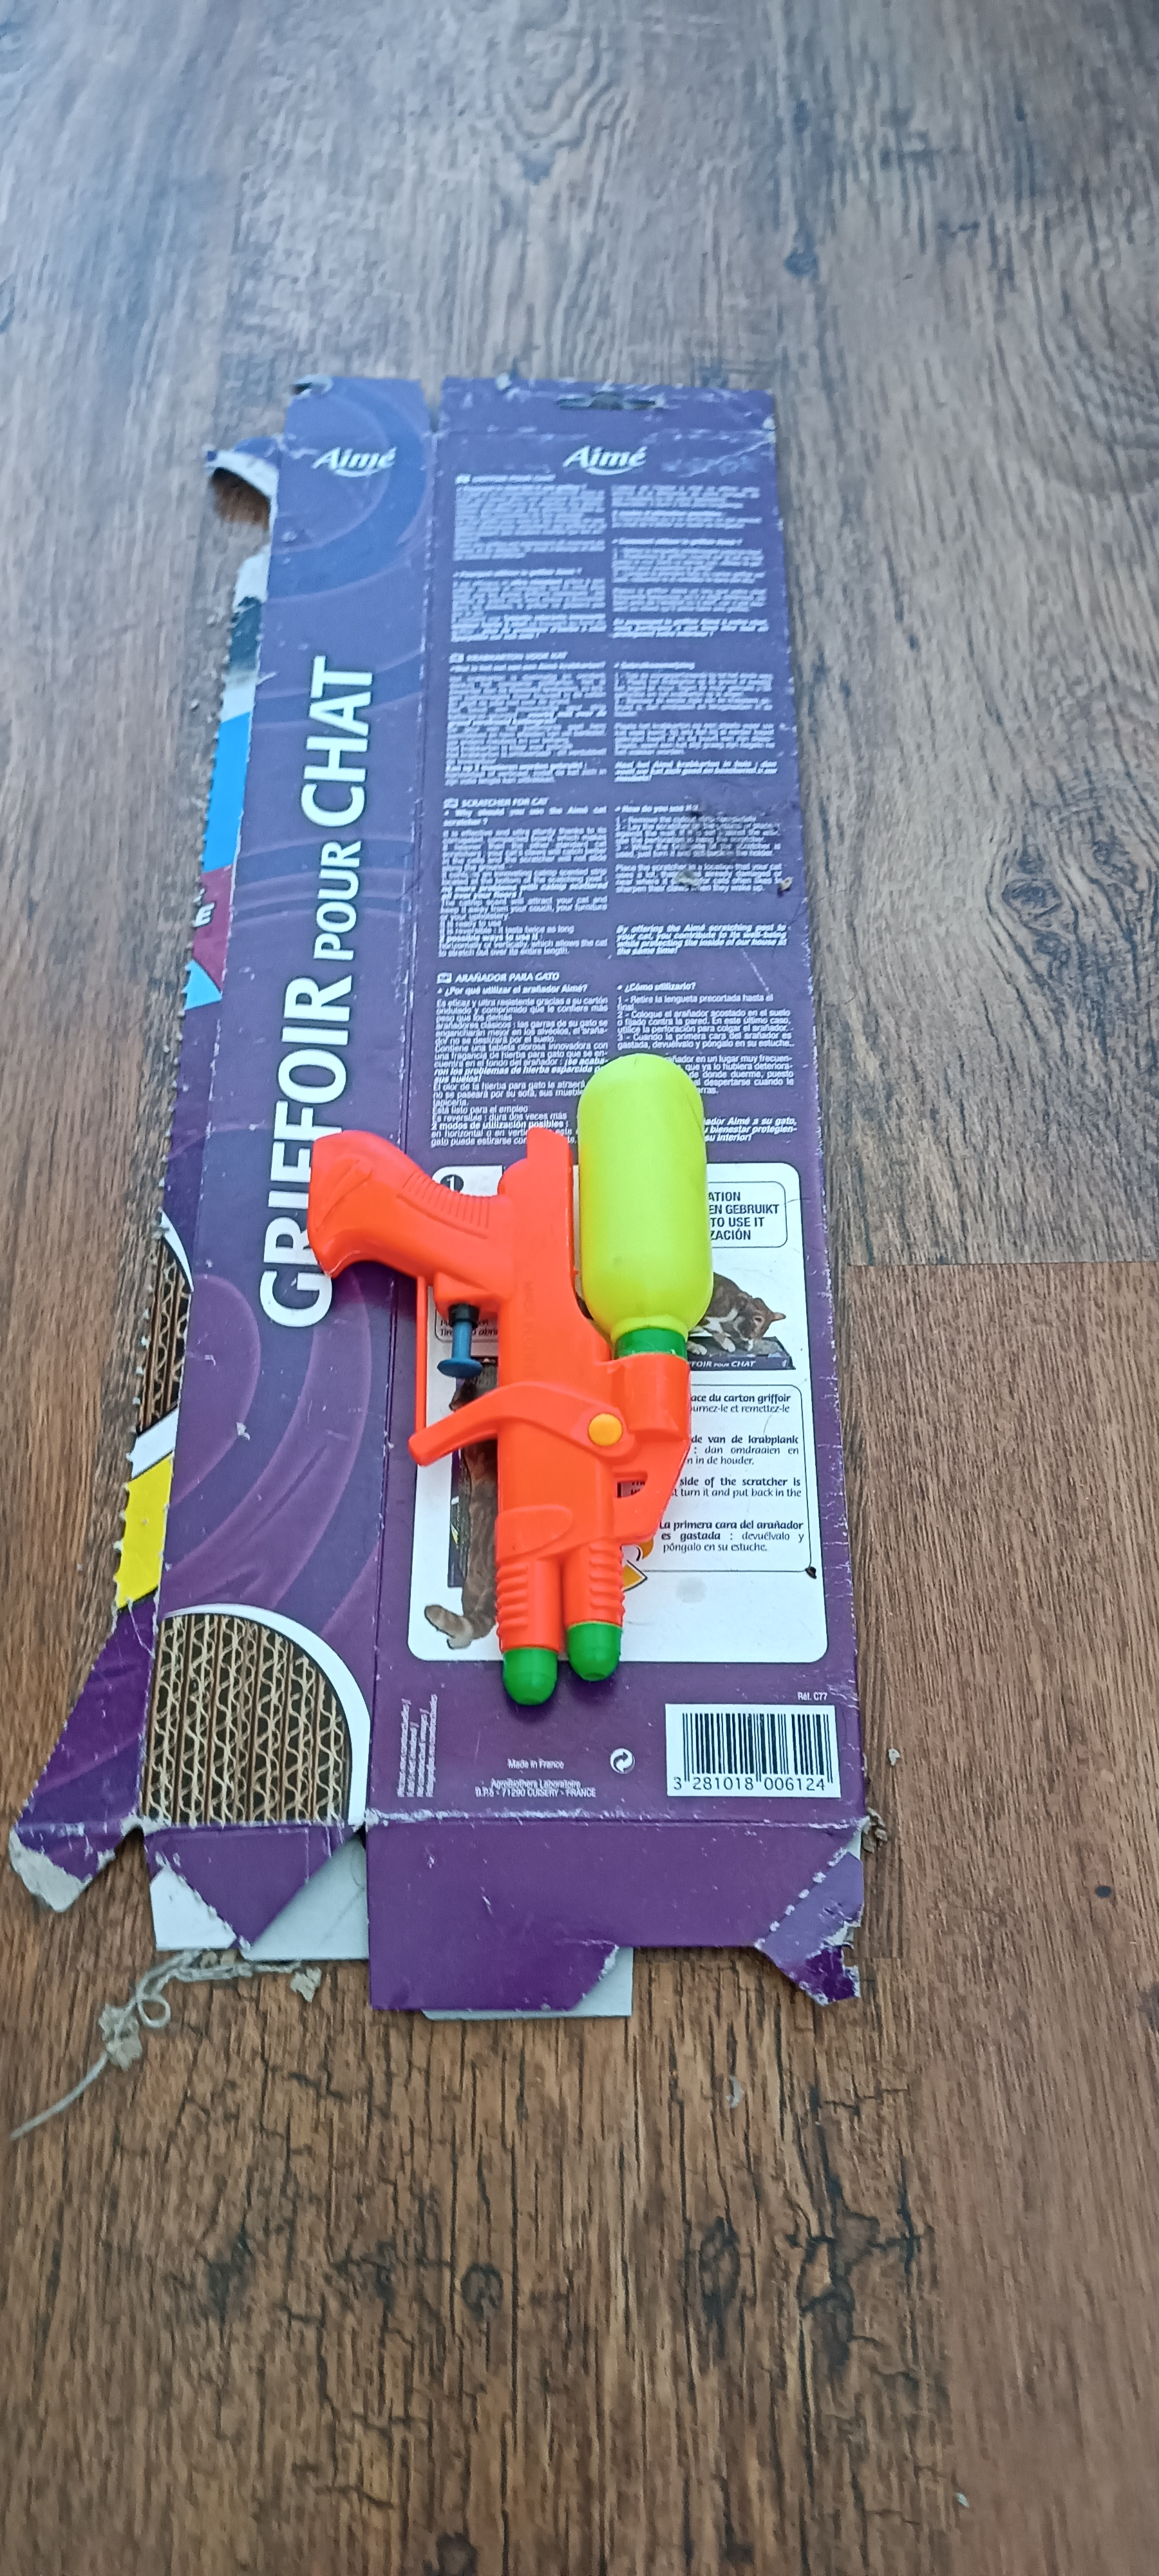Water Gun: (305, 1053, 714, 1707)
